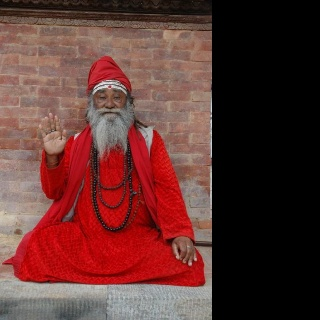without_mask: (90, 80, 128, 123)
